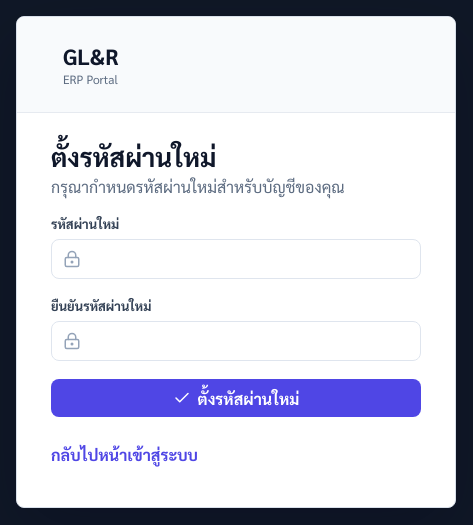
ResetPasswordPage › happy path › submits the token with the new password and shows a success confirmation
Type "BrandNewPass1!" into the password field with test id "reset-password-new" at (236, 259), box left=51, top=239, right=421, bottom=279
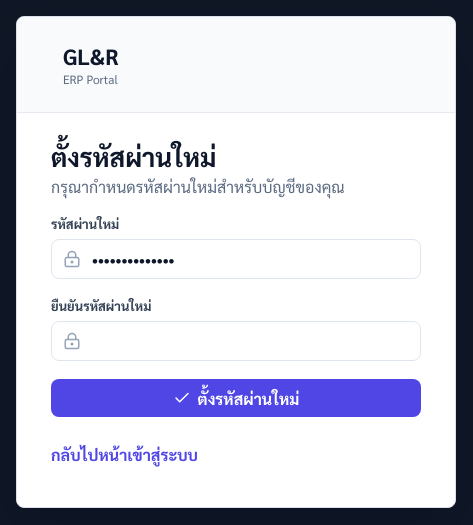
Type "BrandNewPass1!" into the password field with test id "reset-password-confirm" at (236, 341), box left=51, top=321, right=421, bottom=361
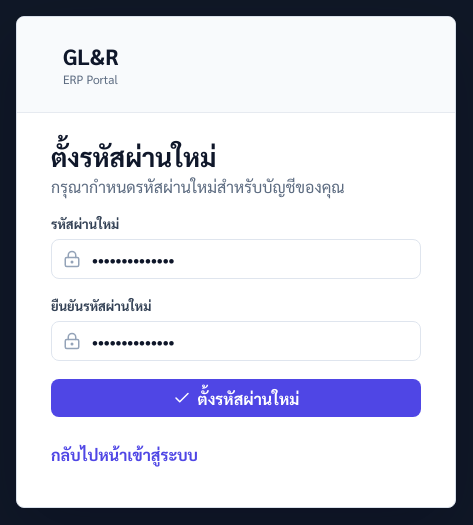
Click the button with test id "reset-password-submit" at (236, 398), box left=51, top=379, right=421, bottom=417
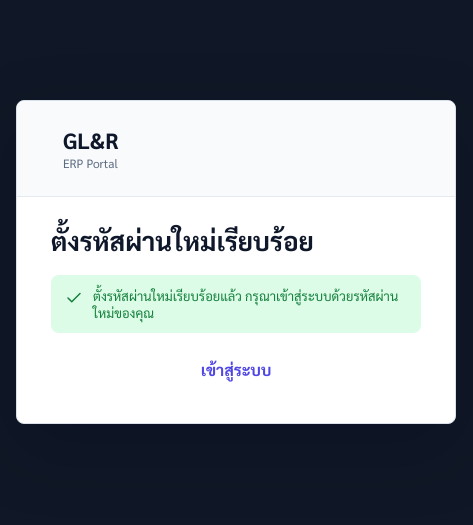
Expected: the button with test id "reset-password-go-to-login" is shown, left=51, top=351, right=421, bottom=389
